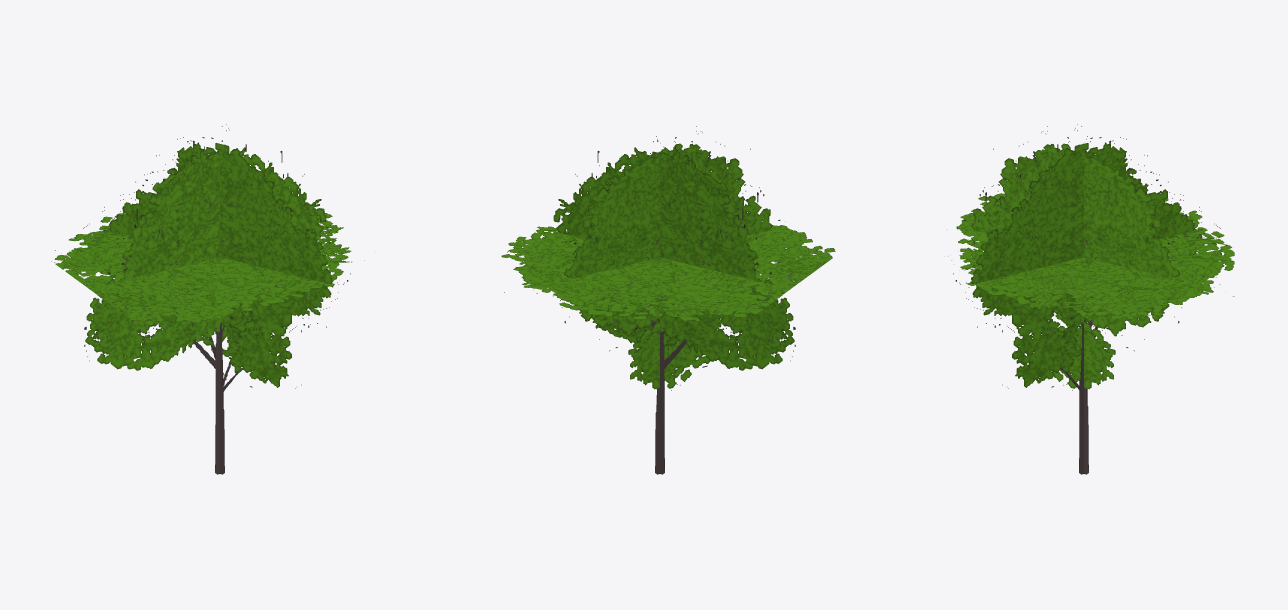
File: tree_deciduous_01_far.glb
The picture shows the model from 3 angles, left to right: view 1: azimuth 30°, elevation 25°; view 2: azimuth 150°, elevation 25°; view 3: azimuth 270°, elevation 25°; orthographic projection.
Parts seen in each view (by area): view 1: env; view 2: env; view 3: env.
Boxes of the visible parts, x1,y1,x2,y2 form: env: [51, 124, 364, 474]; env: [501, 126, 835, 474]; env: [951, 124, 1234, 474].
Size of the model in its own units: 4.45 by 4.45 by 3.86.
Materials: 1 (1 with a texture image).
